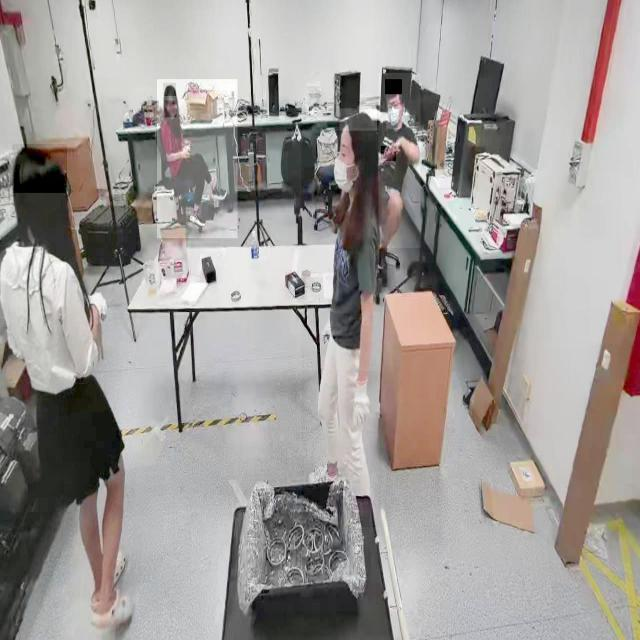gloves: (346, 370, 378, 434), (90, 278, 112, 324)
